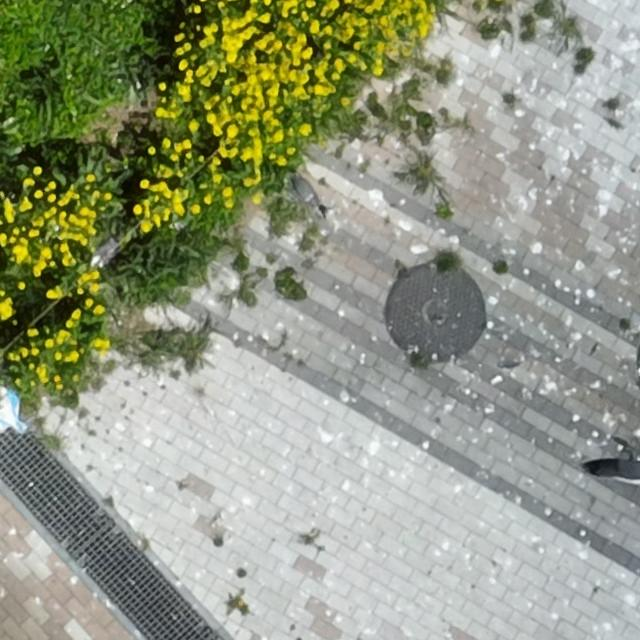umineko: (288, 171, 332, 213), (93, 237, 118, 264)
